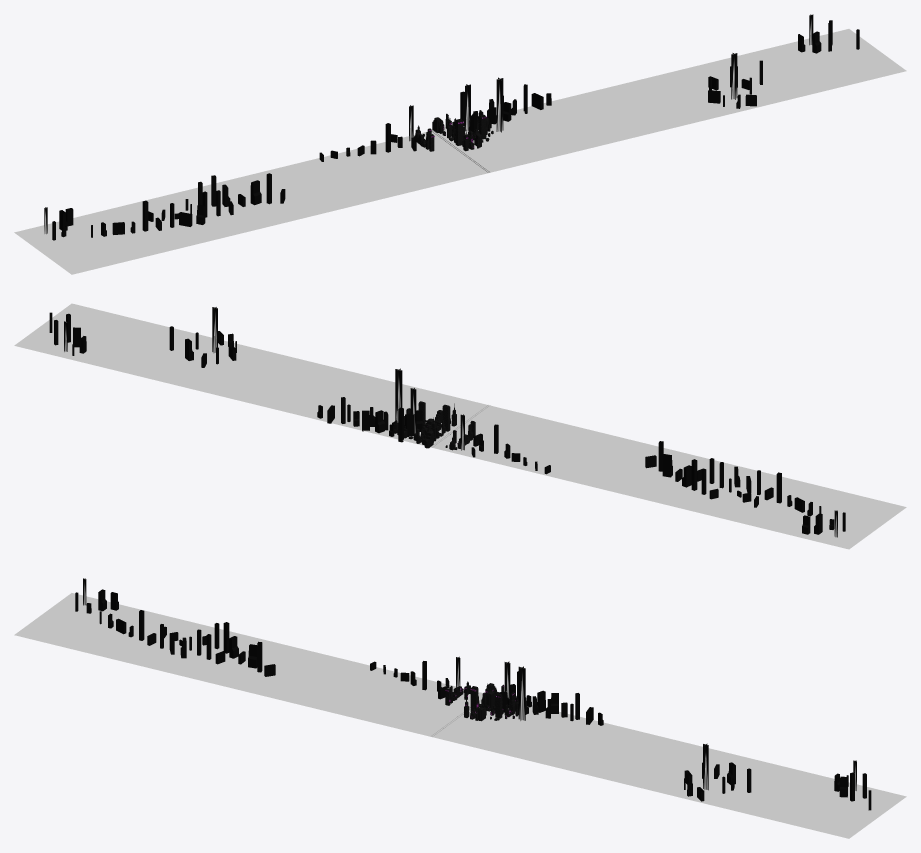
The model's file is cit3.FBX.
The picture shows the model from 3 angles, top to bottom: view 1: azimuth 30°, elevation 25°; view 2: azimuth 150°, elevation 25°; view 3: azimuth 330°, elevation 25°; orthographic projection.
Visible parts, largest first — view 1: Plane024, building_large009, Object001; view 2: Plane024, building_large009, Object001; view 3: Plane024, building_large009, Object001.
Part boxes in pixels (x1,y1,x2,y2): Plane024: (14, 29, 906, 274); building_large009: (52, 20, 859, 240); Object001: (44, 14, 813, 234); Plane024: (14, 303, 906, 549); building_large009: (49, 312, 845, 534); Object001: (64, 307, 837, 537); Plane024: (14, 593, 906, 838); building_large009: (75, 589, 871, 810); Object001: (83, 578, 856, 790).
Bounding box in the file's own units: 20000 × 2462 × 1250.
